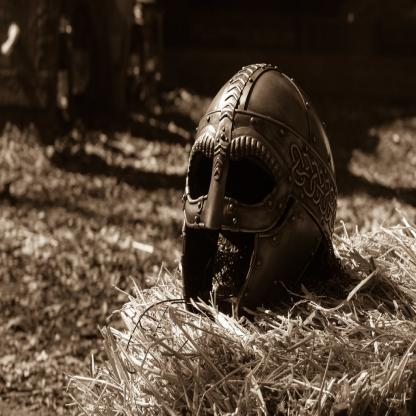Helmet: (178, 78, 340, 307)
